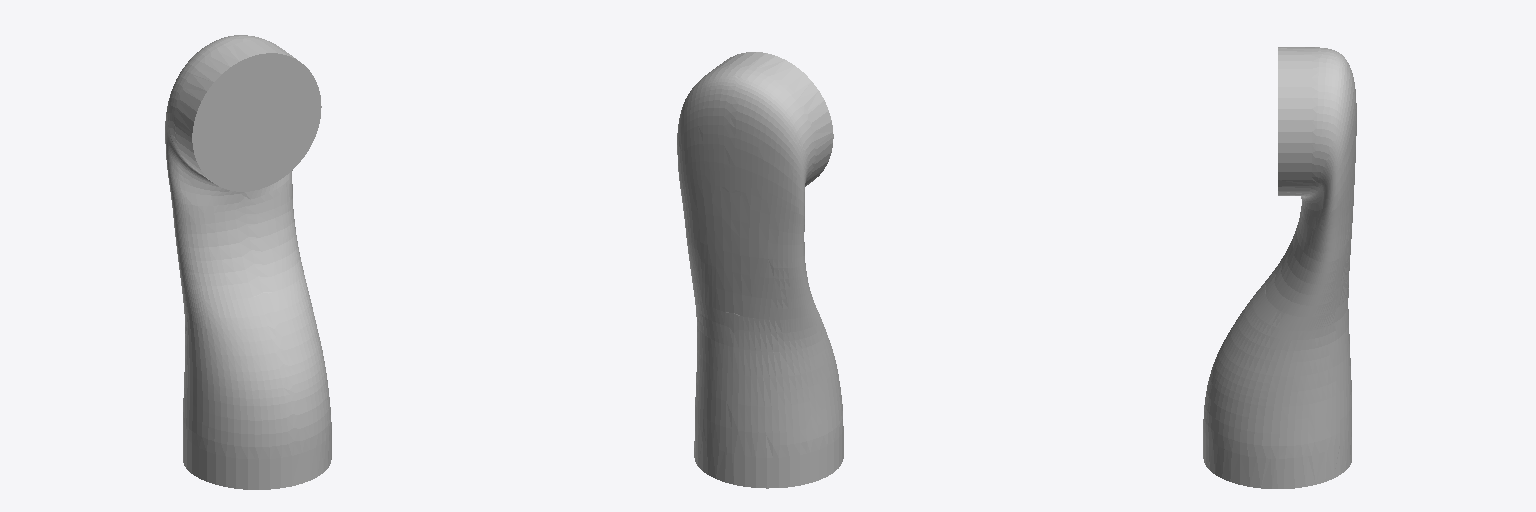
File: processed_arm_half_1.obj
3 renders of one model, left to right at view 1: azimuth 30°, elevation 25°; view 2: azimuth 150°, elevation 25°; view 3: azimuth 270°, elevation 25°, orthographic.
Visible parts, largest first — view 1: arm_half_1; view 2: arm_half_1; view 3: arm_half_1.
Part boxes in pixels (left/top/right/bottom): arm_half_1: left=165, top=35, right=331, bottom=489; arm_half_1: left=677, top=52, right=843, bottom=488; arm_half_1: left=1203, top=47, right=1356, bottom=488.
Bounding box in the file's own units: 0.0825 × 0.2461 × 0.0849.